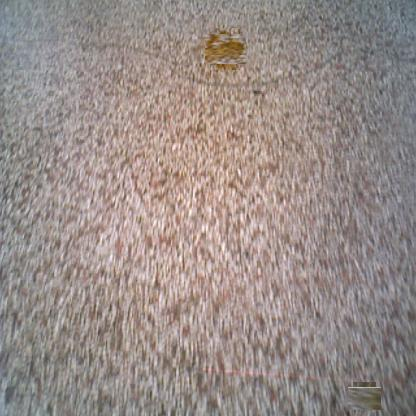liquid: (207, 31, 243, 67), (350, 385, 379, 413)
